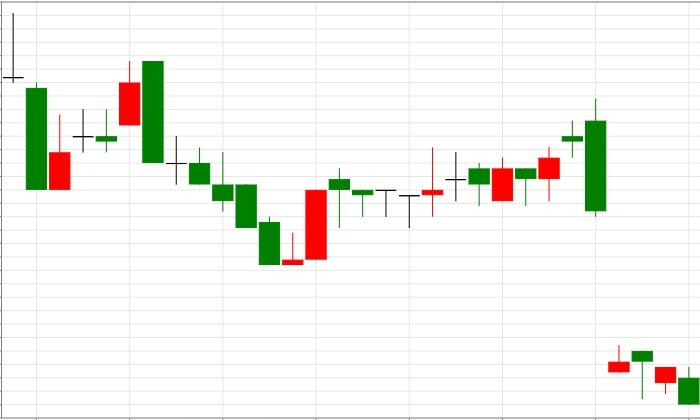bearish_engulfing_fall: (27, 60, 164, 191)
morning_star_rise: (143, 61, 327, 265)
